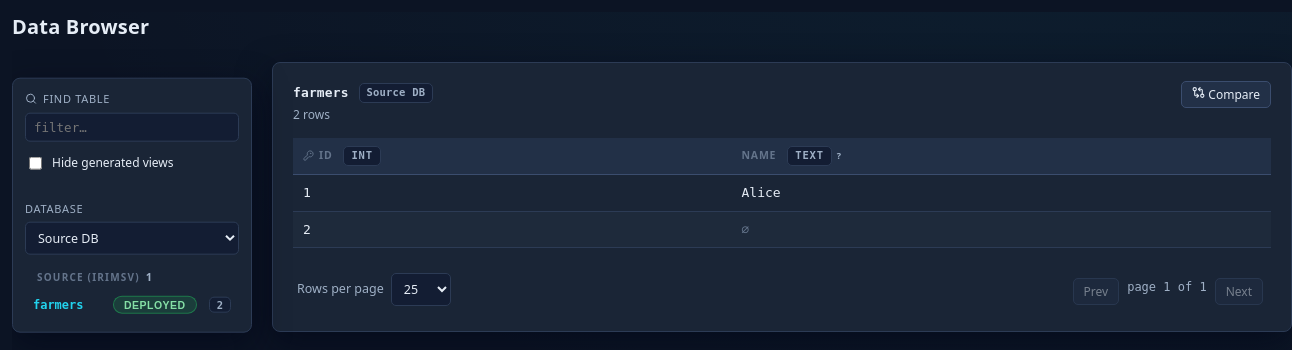
DataBrowser › shows one database table list at a time
The image size is (1292, 350).
expect the text "farmers" below "Source (irimsv)" is shown: met, box [33,297,83,311]
expect the text "tgt_farmers" is not shown: met
# The two sides are Source DB and the real Target DB (lrmis_target).
Select "Target DB" in the dropdown labelled "Database" at (132, 238), box [25,222,239,255]
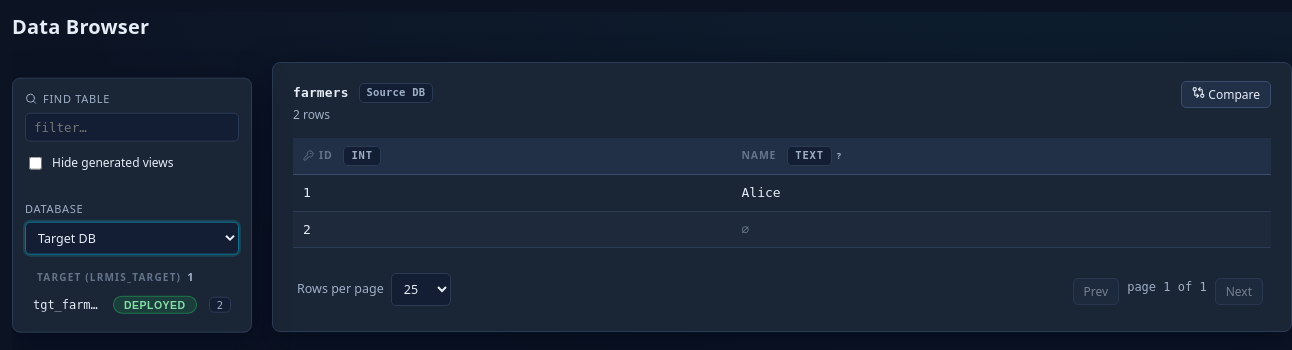
expect the text "tgt_farmers" is shown: met, box [33,297,105,311]
expect the button titled "farmers" is gone: met
